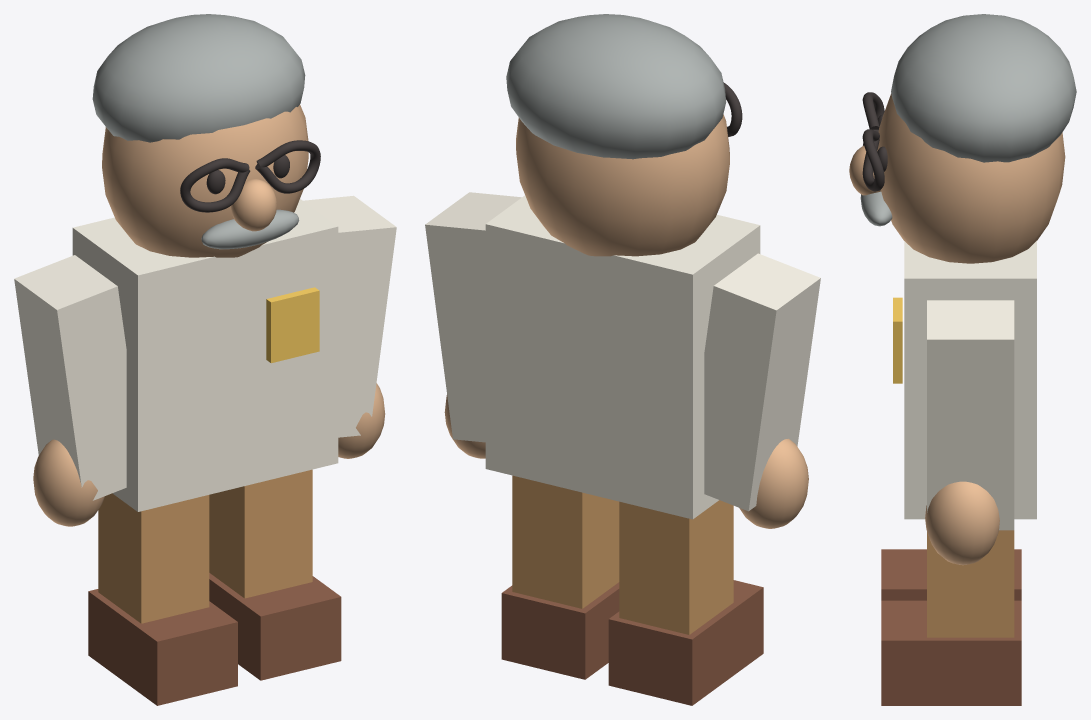
The model's file is professor.glb.
3 views of the same model, side by side, from view 1: azimuth 30°, elevation 25°; view 2: azimuth 150°, elevation 25°; view 3: azimuth 270°, elevation 25° (orthographic). The views are drawn at different scales.
Visible parts, largest first — view 1: Jacket.001, Hair.001, Arm.002, Head.006, Leg.002, Shoe.002, Leg.003, Arm.003, Shoe.003, Hand.002, Questionable ID, Mustache (+4 smaller); view 2: Jacket.001, Hair.001, Arm.002, Head.006, Leg.002, Arm.003, Leg.003, Shoe.002, Shoe.003, Hand.002, Hand.003; view 3: Hair.001, Head.006, Arm.003, Jacket.001, Shoe.003, Leg.003, Hand.003, Shoe.002, Glasses.001, Questionable ID, Mustache, Nose.005 (+1 smaller).
Boxes of the visible parts, x1,y1,x2,y2 form: Jacket.001: (72, 199, 338, 511); Hair.001: (92, 14, 305, 142); Arm.002: (14, 255, 126, 500); Head.006: (102, 105, 308, 257); Leg.002: (98, 493, 209, 623); Shoe.002: (88, 589, 237, 705); Leg.003: (209, 469, 312, 598); Arm.003: (303, 195, 396, 437); Shoe.003: (209, 573, 341, 680); Hand.002: (33, 439, 104, 526); Questionable ID: (266, 287, 319, 363); Mustache: (201, 209, 299, 249); Jacket.001: (485, 195, 760, 519); Hair.001: (506, 14, 726, 159); Arm.002: (704, 253, 820, 511); Head.006: (516, 114, 729, 256); Leg.002: (619, 500, 733, 634); Arm.003: (425, 192, 521, 442); Leg.003: (512, 475, 619, 608); Shoe.002: (608, 580, 763, 705); Shoe.003: (501, 582, 619, 679); Hand.002: (739, 438, 808, 528); Hand.003: (444, 395, 485, 458); Hair.001: (891, 14, 1076, 162); Head.006: (877, 93, 1065, 263); Arm.003: (927, 300, 1014, 530); Jacket.001: (904, 241, 1036, 519); Shoe.003: (881, 600, 1021, 705); Leg.003: (927, 530, 1014, 637); Hand.003: (925, 481, 999, 565); Shoe.002: (881, 549, 1021, 600); Glasses.001: (862, 129, 884, 191); Questionable ID: (893, 297, 902, 383); Mustache: (860, 191, 892, 226); Nose.005: (849, 145, 881, 195).
Size of the model in its own units: 1.06 by 1.83 by 0.6.
